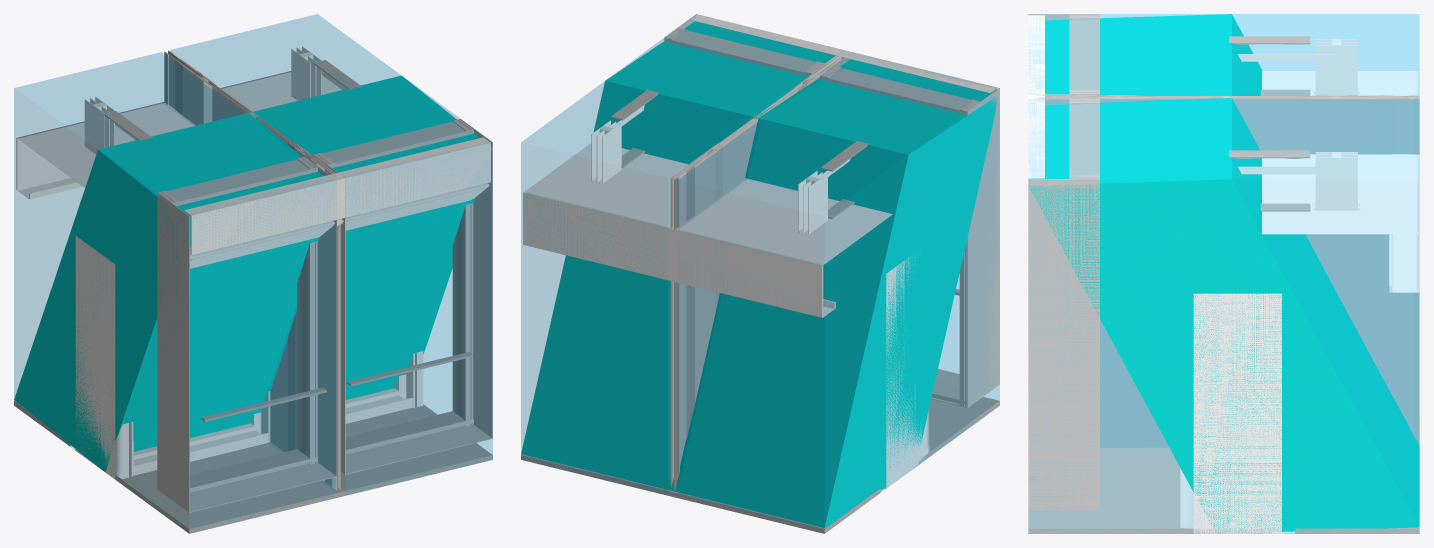
3 views of the same model, side by side, from view 1: azimuth 30°, elevation 25°; view 2: azimuth 150°, elevation 25°; view 3: azimuth 270°, elevation 25° (orthographic). The views are drawn at different scales.
Size of the model in its own units: 65535 by 65535 by 65535.
